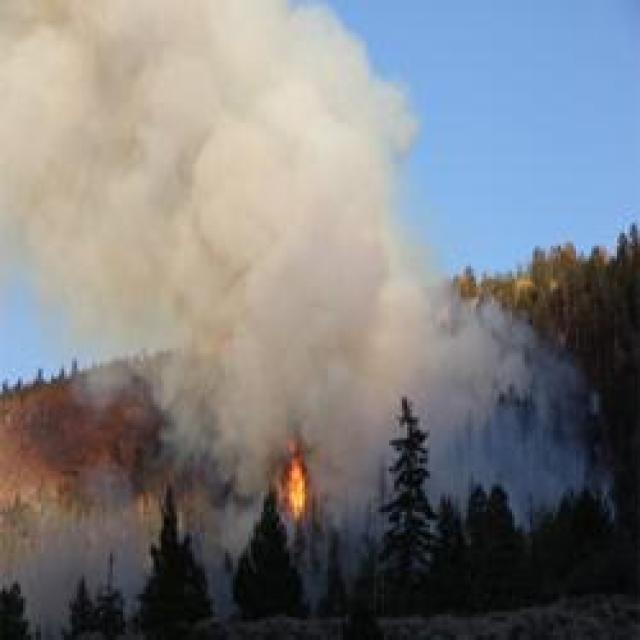Fire: (280, 438, 310, 524)
Smoke: (1, 0, 599, 530), (0, 479, 227, 626)
